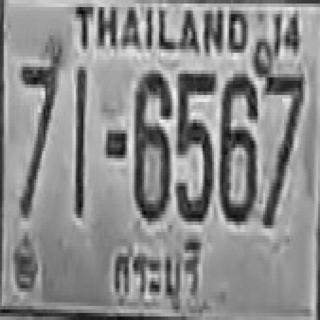N01: (74, 65, 85, 213)
N05: (174, 69, 214, 220)
N06: (219, 69, 257, 220), (133, 67, 170, 218)
N07: (18, 35, 64, 214), (261, 67, 303, 225)
P60: (109, 226, 203, 313)
